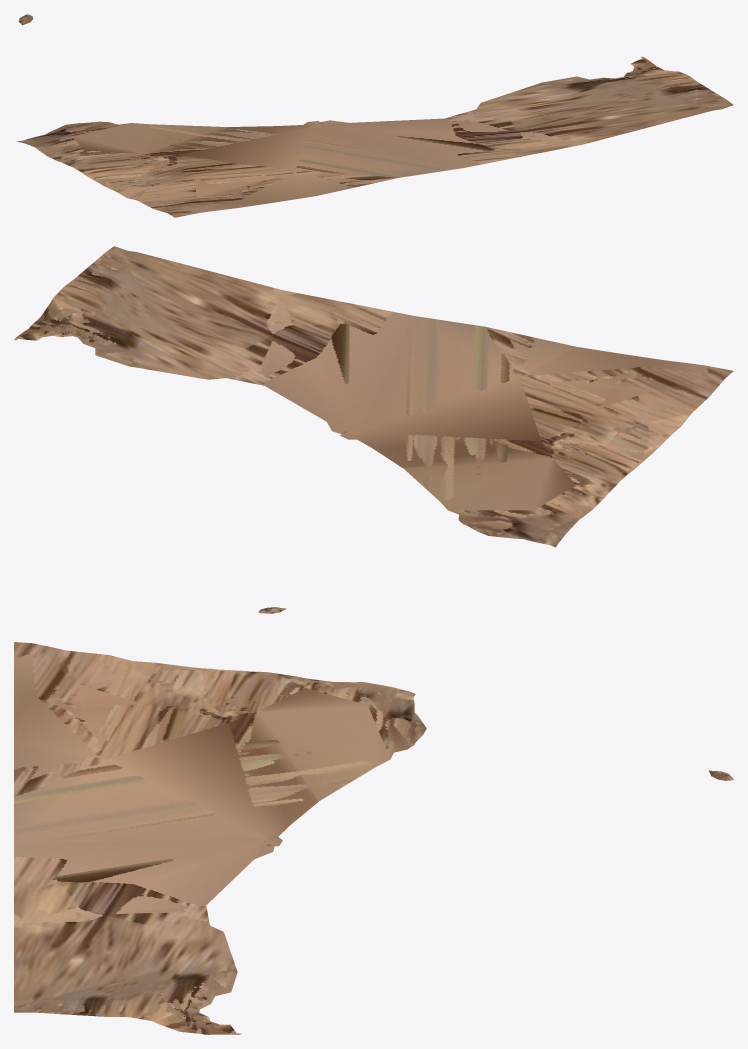
3 views of the same model, one above another, from view 1: azimuth 30°, elevation 25°; view 2: azimuth 150°, elevation 25°; view 3: azimuth 270°, elevation 25° (orthographic). The views are drawn at different scales.
Bounding box in the file's own units: 2.09 × 0.1488 × 1.86.
Materials: 1 (1 with a texture image).
